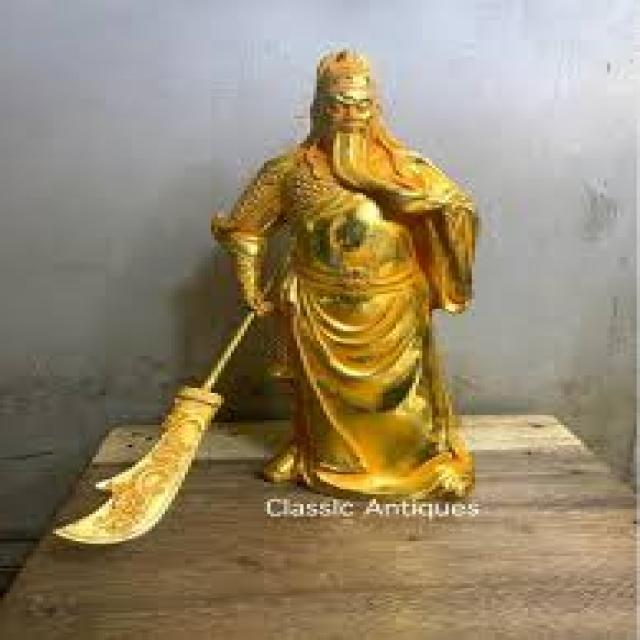Guan Yu: (218, 45, 499, 502)
